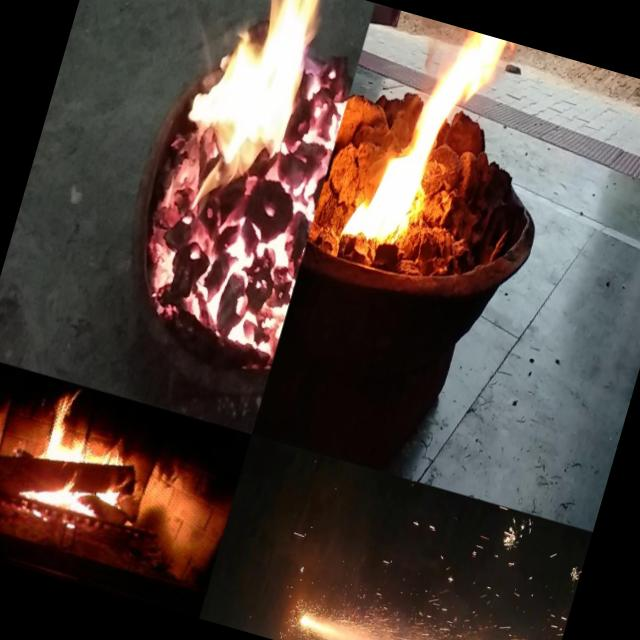fire: (125, 0, 334, 346), (345, 12, 521, 268), (226, 58, 356, 383), (13, 386, 152, 532)
